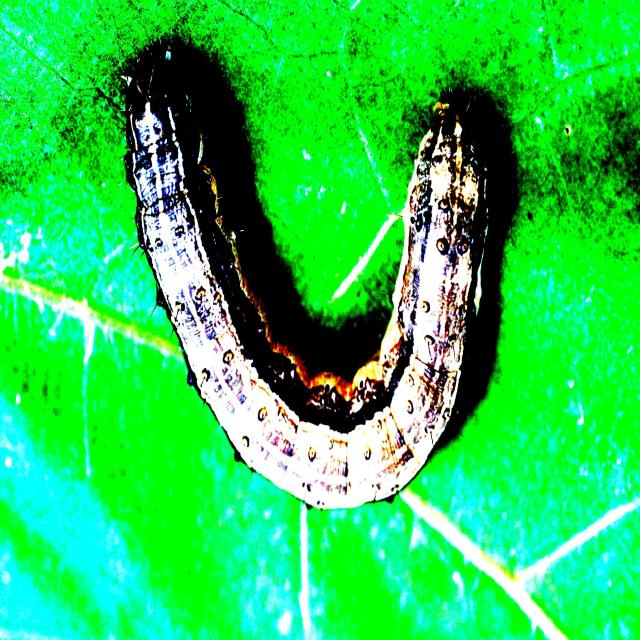Armyworm: (96, 41, 538, 560)
